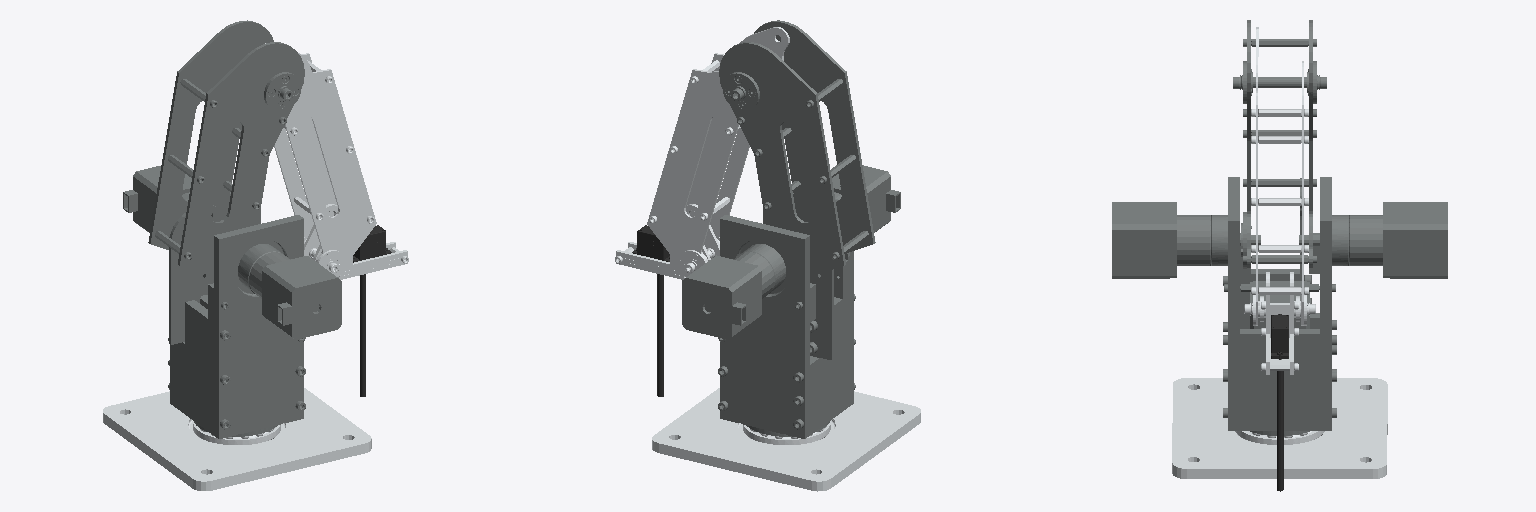
URDF robot description (armbot):
<?xml version="1.0" encoding="utf-8"?>
<!-- This URDF was automatically created by SolidWorks to URDF Exporter! Originally created by [author] ([email redacted]) 
     Commit Version: 1.6.0-4-g7f85cfe  Build Version: 1.6.7995.38578
     For more information, please see http://wiki.ros.org/sw_urdf_exporter -->
<robot
  name="armbot">

  <link name="world"/>

  <joint name="joint1_world" type="fixed" >
    <parent link="world"/>
    <child link="base_link"/>
  </joint>

  <link
    name="base_link">
    <inertial>
      <origin
        xyz="-2.71598519113409E-09 2.95460784927454E-08 0.00471164634309819"
        rpy="0 0 0" />
      <mass
        value="0.539924220844728" />
      <inertia
        ixx="0.000900127008306627"
        ixy="2.4109041703057E-11"
        ixz="-2.74229850494269E-12"
        iyy="0.000900126622269955"
        iyz="1.00434637976307E-10"
        izz="0.00179527912392399" />
    </inertial>
    <visual>
      <origin
        xyz="0 0 0"
        rpy="0 0 3.14" />
      <geometry>
        <mesh
          filename="package://armbot_description/meshes/model_best/base_link.STL" />
      </geometry>
      <material
        name="">
        <color
          rgba="0.898039215686275 0.917647058823529 0.929411764705882 1" />
      </material>
    </visual>
    <collision>
      <origin
        xyz="0 0 0"
        rpy="0 0 3.14" />
      <geometry>
        <mesh
          filename="package://armbot_description/meshes/model_best/base_link.STL" />
      </geometry>
    </collision>
  </link>
  <link
    name="link_1">
    <inertial>
      <origin
        xyz="-0.000351777935782599 -8.3567663927646E-06 0.0898336401547187"
        rpy="0 0 0" />
      <mass
        value="3.66151948541535" />
      <inertia
        ixx="0.00310618079266536"
        ixy="-2.45620483314348E-10"
        ixz="-4.2642286678122E-06"
        iyy="0.00238146240355345"
        iyz="6.19764914060838E-06"
        izz="0.00193792067716221" />
    </inertial>
    <visual>
      <origin
        xyz="0 0 0"
        rpy="0 0 0" />
      <geometry>
        <mesh
          filename="package://armbot_description/meshes/model_best/link_1.STL" />
      </geometry>
      <material
        name="">
        <color
          rgba="0.529411764705882 0.549019607843137 0.549019607843137 1" />
      </material>
    </visual>
    <collision>
      <origin
        xyz="0 0 0"
        rpy="0 0 0" />
      <geometry>
        <mesh
          filename="package://armbot_description/meshes/model_best/link_1.STL" />
      </geometry>
    </collision>
  </link>
  <joint
    name="joint_1"
    type="revolute">
    <origin
      xyz="0 0 0.023"
      rpy="0 0 0" />
    <parent
      link="base_link" />
    <child
      link="link_1" />
    <axis
      xyz="0 0 1" />
    <limit
      lower="-2.25"
      upper="2.25"
      effort="150"
      velocity="3.15" />
  </joint>
  <link
    name="link_2">
    <inertial>
      <origin
        xyz="-0.00481374339877721 -0.0860772263678712 -0.0170516442881634"
        rpy="0 0 0" />
      <mass
        value="0.270091528613745" />
      <inertia
        ixx="0.000514671801471032"
        ixy="9.16010403434671E-05"
        ixz="1.34376441107647E-12"
        iyy="0.000110751048572733"
        iyz="1.04403379274225E-11"
        izz="0.000606312552798777" />
    </inertial>
    <visual>
      <origin
        xyz="0 0 0"
        rpy="0 0 0" />
      <geometry>
        <mesh
          filename="package://armbot_description/meshes/model_best/link_2.STL" />
      </geometry>
      <material
        name="">
        <color
          rgba="0.529411764705882 0.549019607843137 0.549019607843137 1" />
      </material>
    </visual>
    <collision>
      <origin
        xyz="0 0 0"
        rpy="0 0 0" />
      <geometry>
        <mesh
          filename="package://armbot_description/meshes/model_best/link_2.STL" />
      </geometry>
    </collision>
  </link>
  <joint
    name="joint_2"
    type="revolute">
    <origin
      xyz="0 0.017 0.126"
      rpy="-1.5708 0 0" />
    <parent
      link="link_1" />
    <child
      link="link_2" />
    <axis
      xyz="0 0 1" />
    <limit
      lower="0"
      upper="1.570796325"
      effort="150"
      velocity="3.15" />
  </joint>
  <link
    name="link_3">
    <inertial>
      <origin
        xyz="-0.080178553869397 0.0470442917892616 -0.0287545509911682"
        rpy="0 0 0" />
      <mass
        value="0.138752300390972" />
      <inertia
        ixx="5.09807168492351E-05"
        ixy="7.5240974139738E-05"
        ixz="2.72130477876753E-10"
        iyy="0.000210687613647716"
        iyz="-1.32404666332968E-10"
        izz="0.000256277873413444" />
    </inertial>
    <visual>
      <origin
        xyz="0 0 0"
        rpy="0 0 0" />
      <geometry>
        <mesh
          filename="package://armbot_description/meshes/model_best/link_3.STL" />
      </geometry>
      <material
        name="">
        <color
          rgba="0.898039215686275 0.917647058823529 0.929411764705882 1" />
      </material>
    </visual>
    <collision>
      <origin
        xyz="0 0 0"
        rpy="0 0 0" />
      <geometry>
        <mesh
          filename="package://armbot_description/meshes/model_best/link_3.STL" />
      </geometry>
    </collision>
  </link>
  <joint
    name="joint_3"
    type="revolute">
    <origin
      xyz="0.024396 -0.13278 0.011298"
      rpy="0 0 -1.5026" />
    <parent
      link="link_2" />
    <child
      link="link_3" />
    <axis
      xyz="0 0 1" />
    <limit
      lower="-1.570796325"
      upper="0"
      effort="150"
      velocity="3.15" />
  </joint>
  <link
    name="link_4">
    <inertial>
      <origin
        xyz="0.0252665043273254 -0.0213987090714586 -0.00292723331960382"
        rpy="0 0 0" />
      <mass
        value="0.0428002294983427" />
      <inertia
        ixx="5.61420284677293E-06"
        ixy="1.49030732816633E-14"
        ixz="2.98503982130507E-06"
        iyy="1.51155017105663E-05"
        iyz="-1.07259707646414E-21"
        izz="1.031136516409E-05" />
    </inertial>
    <visual>
      <origin
        xyz="0 0 0"
        rpy="0 0 0" />
      <geometry>
        <mesh
          filename="package://armbot_description/meshes/model_best/link_4.STL" />
      </geometry>
      <material
        name="">
        <color
          rgba="0.898039215686275 0.917647058823529 0.929411764705882 1" />
      </material>
    </visual>
    <collision>
      <origin
        xyz="0 0 0"
        rpy="0 0 0" />
      <geometry>
        <mesh
          filename="package://armbot_description/meshes/model_best/link_4.STL" />
      </geometry>
    </collision>
  </link>
  <joint
    name="joint_4"
    type="revolute">
    <origin
      xyz="-0.15035 0.054723 -0.0068996"
      rpy="1.5708 0 1.5026" />
    <parent
      link="link_3" />
    <child
      link="link_4" />
    <axis
      xyz="0 1 0" />
    <limit
      lower="-3.14159265"
      upper="3.14159265"
      effort="150"
      velocity="3.15" />
  </joint>
  <link
    name="link_end">
    <inertial>
      <origin
        xyz="0.0426390524596975 -0.0213989196125616 -0.00265741118685078"
        rpy="0 0 0" />
      <mass
        value="0.0563600278018004" />
      <inertia
        ixx="3.93235368638856E-06"
        ixy="1.53808854573811E-11"
        ixz="-3.15138585201782E-07"
        iyy="5.8909074621393E-06"
        iyz="9.57169866003367E-11"
        izz="3.24845632092875E-06" />
    </inertial>
    <visual>
      <origin
        xyz="0 0 0"
        rpy="0 0 0" />
      <geometry>
        <mesh
          filename="package://armbot_description/meshes/model_best/link_end.STL" />
      </geometry>
      <material
        name="">
        <color
          rgba="0.250980392156863 0.250980392156863 0.250980392156863 1" />
      </material>
    </visual>
    <collision>
      <origin
        xyz="0 0 0"
        rpy="0 0 0" />
      <geometry>
        <mesh
          filename="package://armbot_description/meshes/model_best/link_end.STL" />
      </geometry>
    </collision>
  </link>
  <joint
    name="joint_end"
    type="fixed">
    <origin
      xyz="0 0 0"
      rpy="0 0 0" />
    <parent
      link="link_4" />
    <child
      link="link_end" />
    <axis
      xyz="0 0 0" />
  </joint>
  <link
    name="link_grip">
    <inertial>0.039718 -0.022648 -0.0215
      <origin
        xyz="-0.00291526668033122 0.00124883090327234 -0.0189247801902456"
        rpy="0 0 0" />
      <mass
        value="0.0557728067893349" />
      <inertia
        ixx="3.92728176216103E-06"
        ixy="-2.61102891180612E-12"
        ixz="-3.15138580124601E-07"
        iyy="5.88583553323266E-06"
        iyz="-9.57169867105495E-11"
        izz="3.24790074280327E-06" />
    </inertial>
    <visual>
      <origin
        xyz="0 0 0"
        rpy="0 0 0" />
      <geometry>
        <cylinder length="0.10" radius="0.0025"/>
        <!--<mesh
          filename="package://armbot_description/meshes/model_best/link_grip.STL" />-->
      </geometry>
      <material
        name="">
        <color
          rgba="0.250980392156863 0.250980392156863 0.250980392156863 1" />
      </material>
    </visual>
    <collision>
      <origin
        xyz="0 0 0"
        rpy="0 0 0" />
      <geometry>
        <cylinder length="0.10" radius="0.0025"/>
        <!--<mesh
          filename="package://armbot_description/meshes/model_best/link_grip.STL" />-->
      </geometry>
    </collision>
  </link>
  <joint
    name="joint_grip"
    type="revolute">
    <origin
      xyz="0.037918 -0.021328 -0.0715"
      rpy="3.1416 0 0" />
    <parent
      link="link_end" />
    <child
      link="link_grip" />
    <axis
      xyz="0 0 1" />
    <limit
      lower="-1.570796325"
      upper="1.570796325"
      effort="150"
      velocity="3.15" />
  </joint>
</robot>

--- Render facts (derived) ---
The picture shows the robot from 3 angles, left to right: view 1: azimuth 30°, elevation 25°; view 2: azimuth 150°, elevation 25°; view 3: azimuth 270°, elevation 25°; orthographic projection.
Model armbot with 8 links and 7 joints (5 revolute, 2 fixed), rooted at world, posed all joints at 0.
Links seen in each view (by area): view 1: link_1, link_2, base_link, link_3, link_4, link_end, link_grip; view 2: link_1, link_2, base_link, link_3, link_4, link_grip, link_end; view 3: link_1, base_link, link_2, link_3, link_4, link_grip, link_end.
Boxes of the visible links, x1,y1,x2,y2 form: link_1: (123,166,341,438); link_2: (148,20,304,277); base_link: (103,388,371,490); link_3: (265,43,376,276); link_4: (304,204,408,279); link_end: (353,225,391,262); link_grip: (360,274,365,396); link_1: (682,165,900,438); link_2: (719,20,875,277); base_link: (652,388,920,491); link_3: (647,27,789,276); link_4: (615,204,719,279); link_grip: (657,274,663,396); link_end: (632,225,669,261); link_1: (1112,177,1447,435); base_link: (1172,378,1387,478); link_2: (1233,20,1326,268); link_3: (1244,27,1315,325); link_4: (1261,272,1298,374); link_grip: (1277,371,1283,491); link_end: (1271,314,1288,359).
Size in the robot's own frame: 0.2138 by 0.234 by 0.3217 metres.
6 mesh visuals loaded from 6 distinct referenced files (6 binary STL).
